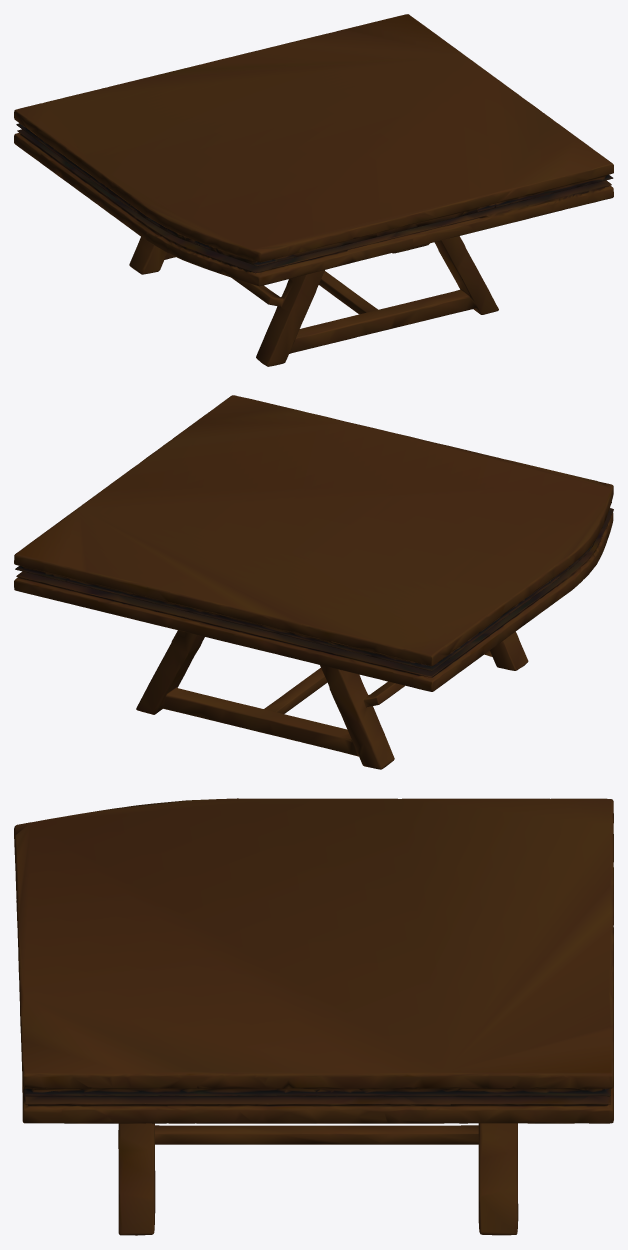
The model's file is dining_table.glb.
3 views of the same model, one above another, from view 1: azimuth 30°, elevation 25°; view 2: azimuth 150°, elevation 25°; view 3: azimuth 270°, elevation 25° (orthographic). The views are drawn at different scales.
Bounding box in the file's own units: 0.9987 × 0.3703 × 0.9135.
